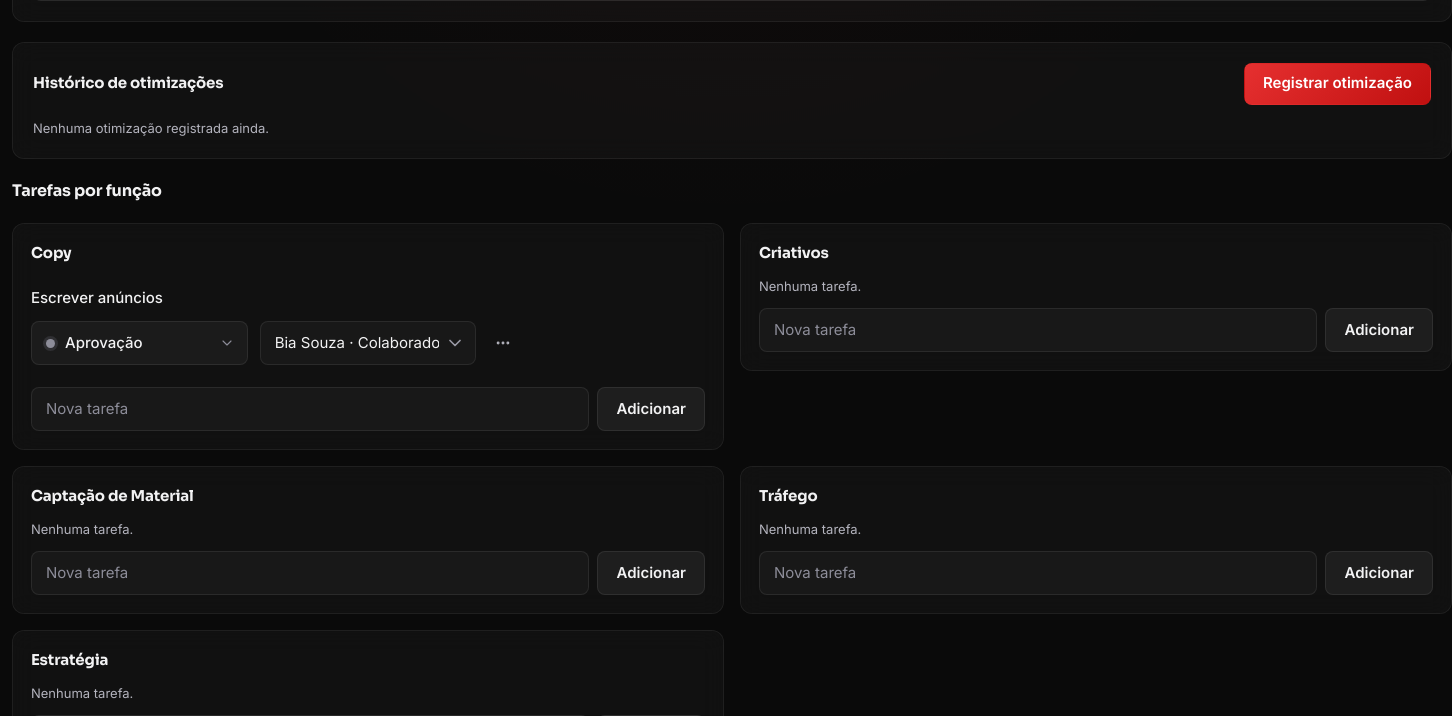
Test case: CampanhaPage › o status da tarefa oferece as colunas do quadro de Anúncios, inclusive as criadas
(page scrolled)
Expected: the text "Escrever anúncios" is shown, [31,288,163,306]
Click the dropdown labelled "Aprovação". click: (139, 343)
box: [31,321,248,365]
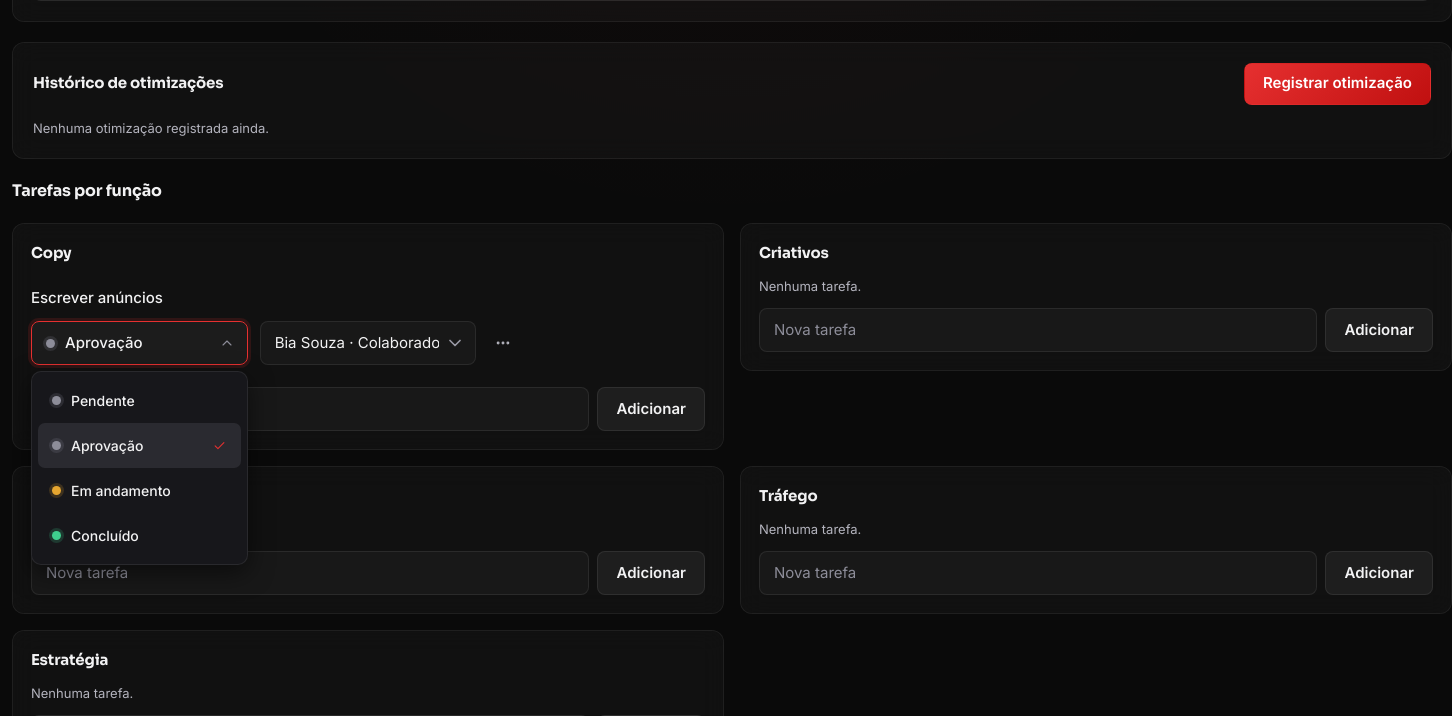
Now the options read "Pendente", "Aprovação", "Em andamento", "Concluído", in this order, box [52,392,135,409]; [38,423,241,468]; [52,482,171,499]; [52,527,139,544]
